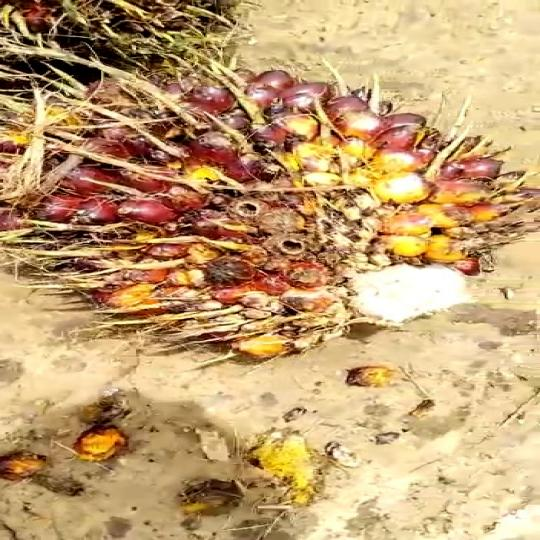masak: (28, 64, 516, 371)
